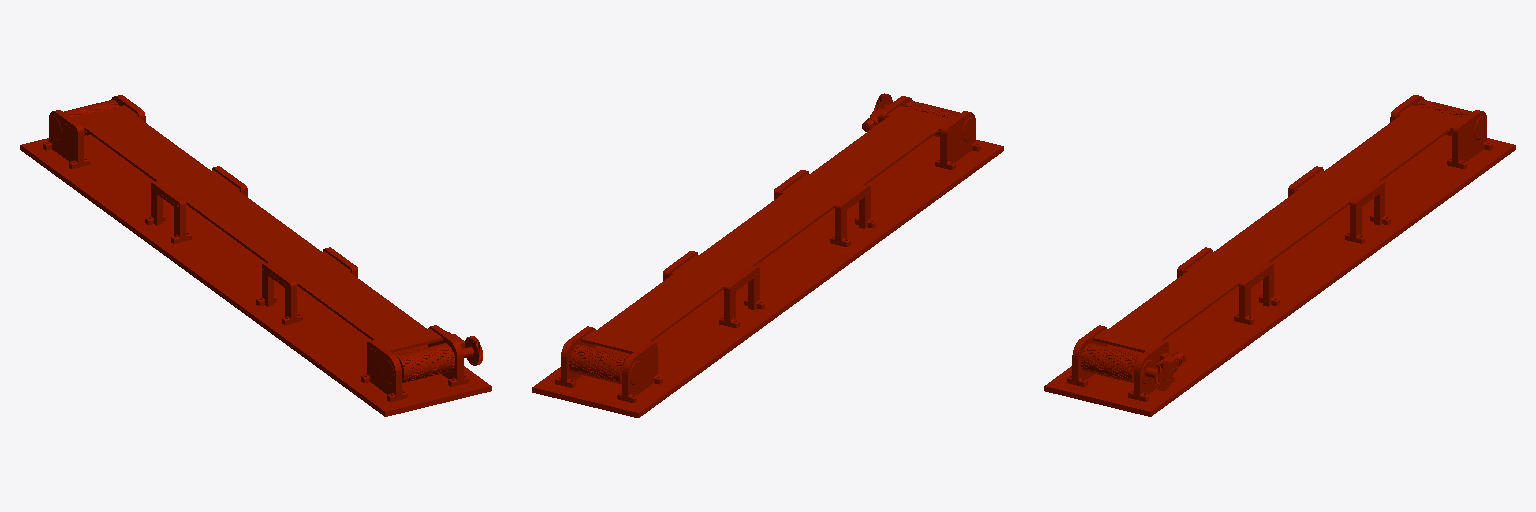
The robot description file, URDF, robot "banda_transportadora":
<?xml version="1.0" encoding="utf-8"?>
<robot name="banda_transportadora">
  
  <link name="world" />

  <joint name="world_to_banda" type="fixed">
    <origin xyz="0.0 0 0" rpy="0 0 1.5708" />
    <parent link="world" />
    <child link="banda_base_link" />
  </joint>
  <link name="banda_base_link">
    <inertial>
      <origin xyz="0.532375158645714 -0.00125118407977348 -0.0614188025075904" rpy="0 0 0" />
      <mass value="3.53485764601871" />
      <inertia ixx="0.010351026660149" ixy="-1.61847933564091E-05" ixz="-8.83817332567959E-07"
               iyy="0.341234100404499" iyz="4.24067313651221E-07" izz="0.35088951437036" />
    </inertial>
    <visual>
      <origin xyz="0 0 0" rpy="0 0 0" />
      <geometry>
        <mesh filename="package://mi_pkg_python/urdf/meshes/banda_base_link.STL" />
      </geometry>
      <material name=""><color rgba="0.592156862745098 0.117647058823529 0 1" /></material>
    </visual>
    <collision>
      <origin xyz="0 0 0" rpy="0 0 0" />
      <geometry>
        <mesh filename="package://mi_pkg_python/urdf/meshes/banda_base_link.STL" />
      </geometry>
    </collision>
  </link>
  
  <link name="banda_link">
    <inertial>
      <origin xyz="0.54526 -1.9429E-16 0" rpy="0 0 0" />
      <mass value="0.5909" />
      <inertia ixx="0.00061358" ixy="-1.2903E-17" ixz="1.5247E-19"
               iyy="0.059266" iyz="-1.2783E-20" izz="0.059878" />
    </inertial>
    <visual>
      <origin xyz="0 0 0" rpy="0 0 0" />
      <geometry>
        <mesh filename="package://mi_pkg_python/urdf/meshes/banda_link.STL" />
      </geometry>
      <material name=""><color rgba="0.59216 0.11765 0 1" /></material>
    </visual>
    <collision>
      <origin xyz="0 0 0" rpy="0 0 0" />
      <geometry>
        <mesh filename="package://mi_pkg_python/urdf/meshes/banda_link.STL" />
      </geometry>
    </collision>
  </link>
  
  <joint name="banda_joint" type="fixed">
    <origin xyz="0 0 0" rpy="0 0 0" />
    <parent link="banda_base_link" />
    <child link="banda_link" />
  </joint>
  
</robot>

--- Render facts (derived) ---
The picture shows the robot from 3 angles, left to right: view 1: azimuth 30°, elevation 25°; view 2: azimuth 150°, elevation 25°; view 3: azimuth 330°, elevation 25°; orthographic projection.
Model banda_transportadora with 3 links and 2 joints (2 fixed), rooted at world, posed every joint at zero.
Visible links, largest first — view 1: banda_base_link, banda_link; view 2: banda_base_link, banda_link; view 3: banda_base_link, banda_link.
Link boxes in pixels (x1=…): banda_base_link: x1=20, y1=95, x2=491, y2=416; banda_link: x1=63, y1=105, x2=442, y2=354; banda_base_link: x1=532, y1=93, x2=1003, y2=417; banda_link: x1=581, y1=106, x2=960, y2=355; banda_base_link: x1=1044, y1=95, x2=1515, y2=416; banda_link: x1=1093, y1=105, x2=1472, y2=354.
Size in the robot's own frame: 0.2101 by 1.25 by 0.0951 metres.
2 mesh visuals loaded from 2 distinct referenced files (2 binary STL).